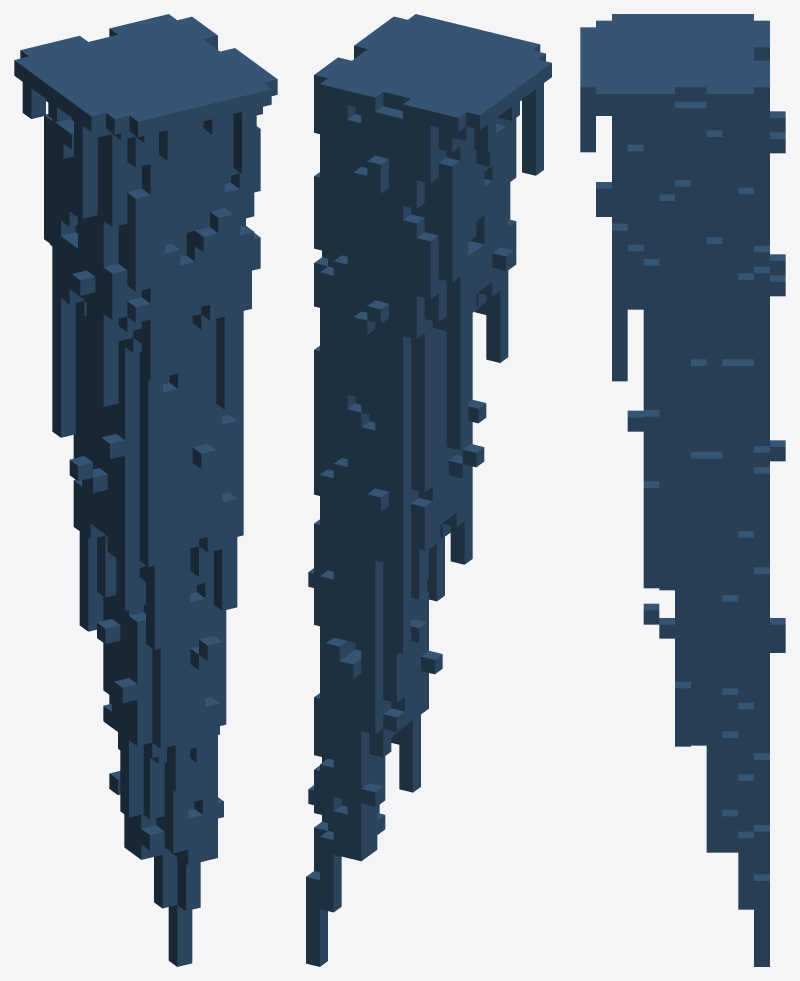
Rendered from IcycleDarkIce.obj.
The picture shows the model from 3 angles, left to right: view 1: azimuth 30°, elevation 25°; view 2: azimuth 150°, elevation 25°; view 3: azimuth 270°, elevation 25°; orthographic projection. The views are drawn at different scales.
Size of the model in its own units: 1.3 by 6.1 by 1.3.
1 material, 1 textured.
